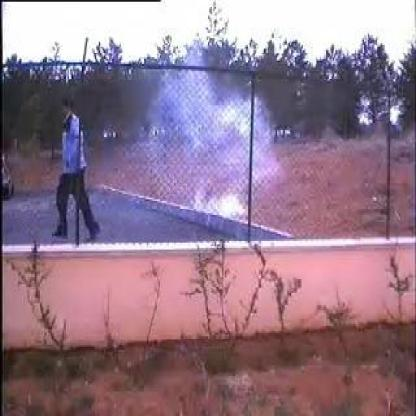-: (152, 80, 254, 222)
